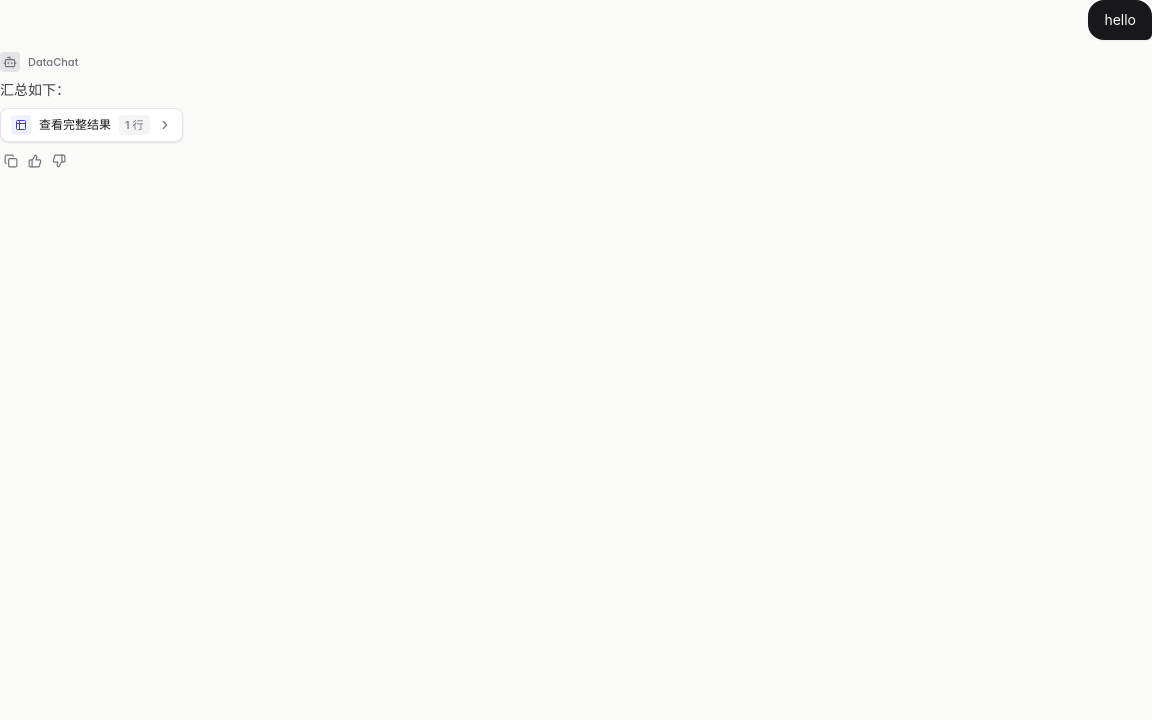
Test: MessageItem › renders a chat result reference as a compact link to the full result
This screenshot has width=1152, height=720.
Expected: the text "查询结果" is not shown
Expected: the text "total" is not shown
Click the button "查看完整结果 1 行": x=91, y=125 [0, 108, 182, 142]
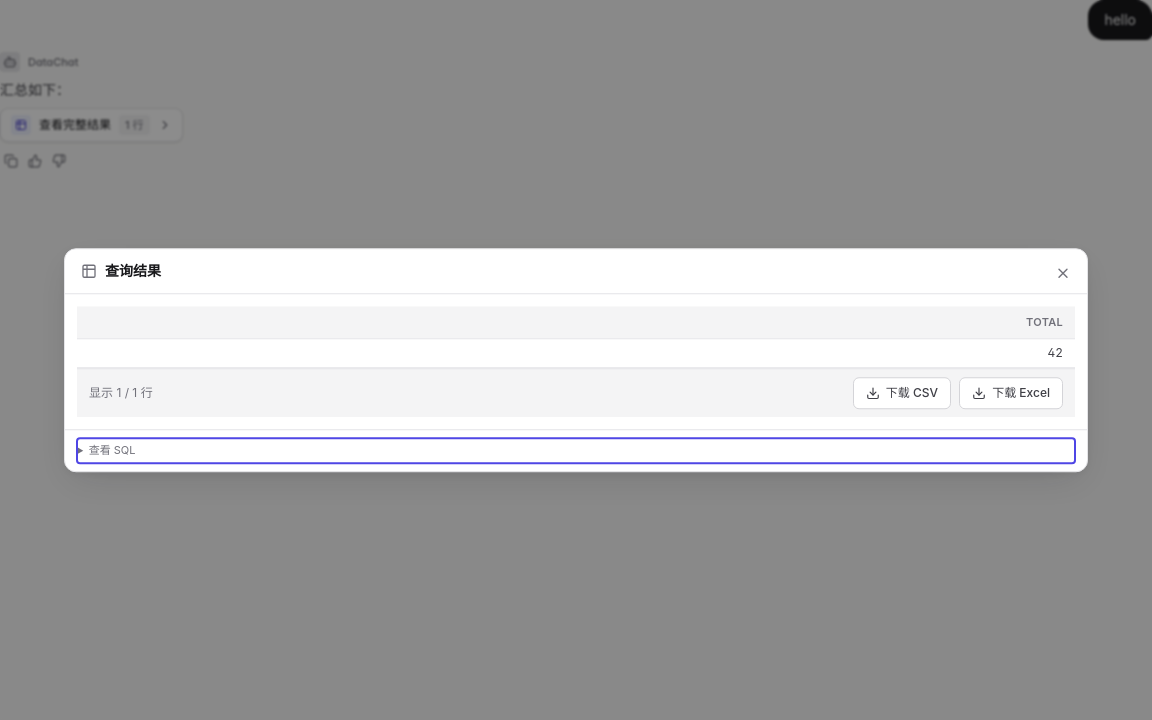
Result: the dialog is shown at [64, 248, 1088, 472]
Result: the column heading "total" is shown at [77, 306, 1075, 339]
Result: the text "42" is shown at [77, 339, 1075, 368]
